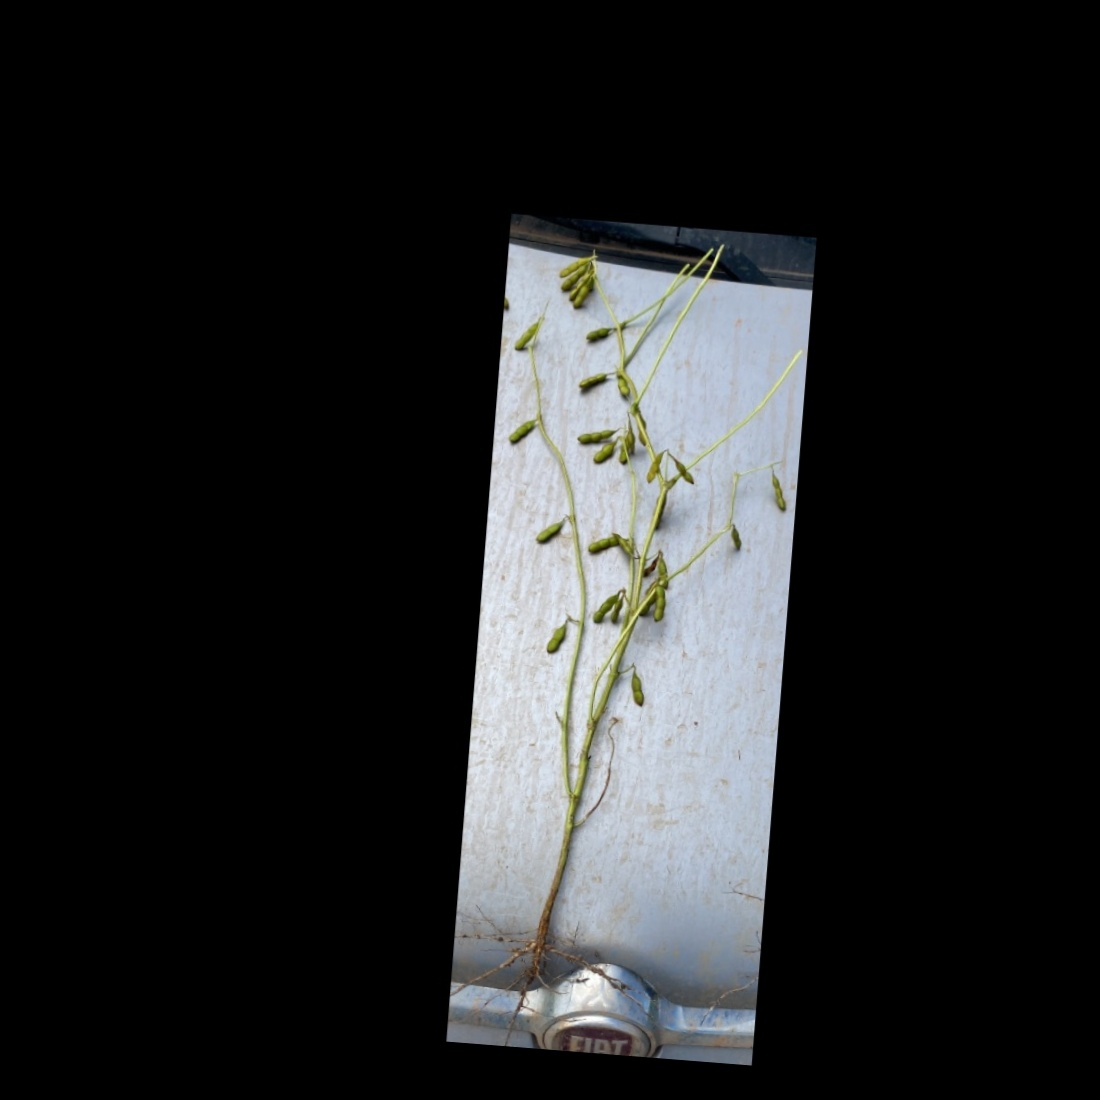pod: (543, 611, 575, 657), (625, 661, 652, 711), (569, 422, 618, 446), (765, 470, 791, 513), (667, 451, 700, 485), (589, 590, 618, 627), (505, 415, 537, 447), (583, 530, 623, 556), (643, 447, 669, 487), (610, 529, 639, 561), (533, 518, 566, 545), (651, 579, 668, 630), (576, 368, 611, 391), (513, 318, 537, 352), (579, 323, 613, 345), (589, 440, 615, 467), (728, 523, 747, 553), (611, 374, 634, 398), (609, 596, 626, 627)
soy: (455, 228, 810, 1020)
